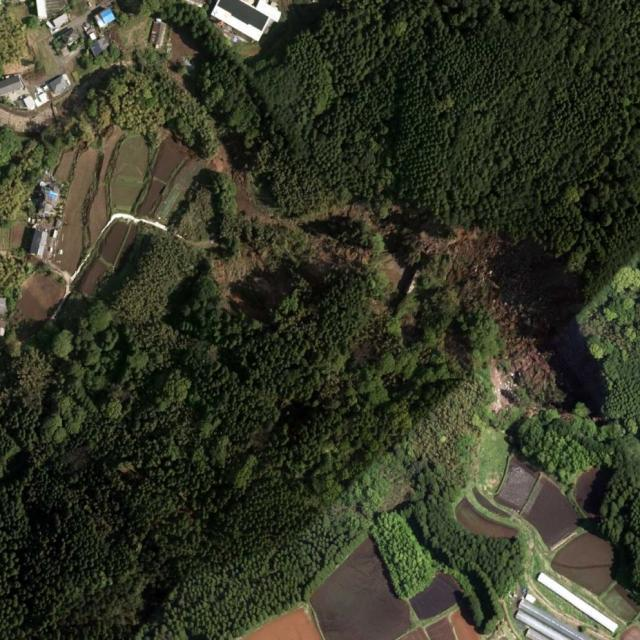landslide: (380, 211, 596, 423), (226, 267, 289, 318)
